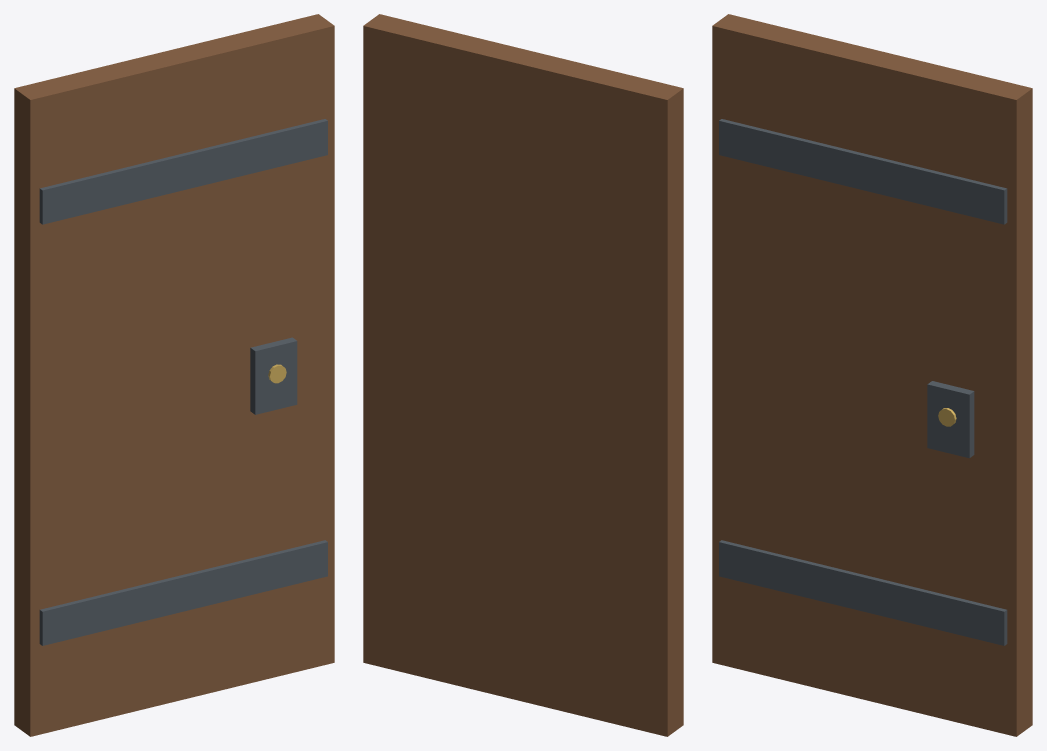
File: service-door.glb
The picture shows the model from 3 angles, left to right: view 1: azimuth 30°, elevation 25°; view 2: azimuth 150°, elevation 25°; view 3: azimuth 330°, elevation 25°; orthographic projection.
Parts seen in each view (by area): view 1: Door panel, Iron brace, Iron brace.001, Lock plate; view 2: Door panel; view 3: Door panel, Iron brace, Iron brace.001, Lock plate.
Part boxes in pixels (<box>): Door panel: <box>14,14,334,736</box>; Iron brace: <box>39,540,327,645</box>; Iron brace.001: <box>39,119,327,224</box>; Lock plate: <box>250,337,297,414</box>; Door panel: <box>363,14,683,736</box>; Door panel: <box>712,14,1032,736</box>; Iron brace: <box>719,540,1007,645</box>; Iron brace.001: <box>719,119,1007,224</box>; Lock plate: <box>927,381,974,458</box>.
Bounding box in the file's own units: 0.65 × 1.3 × 0.085.
